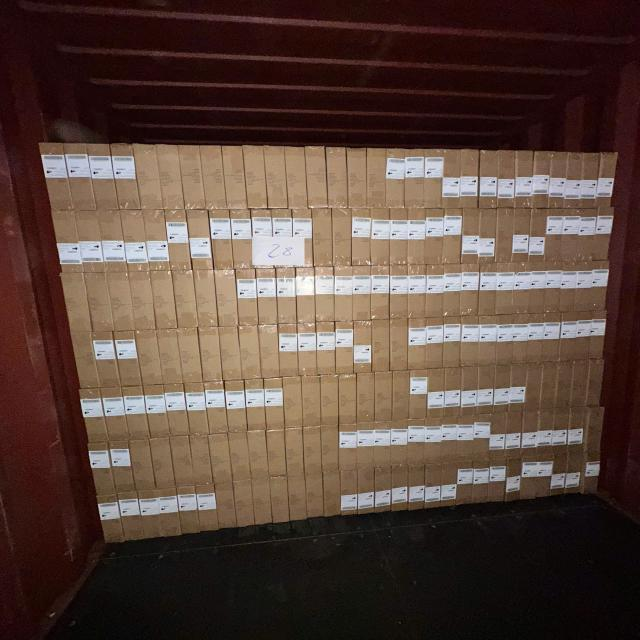Carton: (41, 142, 74, 210), (64, 144, 96, 210), (59, 272, 92, 332), (90, 144, 119, 211), (52, 212, 84, 272), (134, 145, 163, 210), (86, 272, 116, 332), (76, 210, 104, 274), (94, 492, 126, 546), (160, 145, 186, 210), (69, 331, 98, 389), (179, 146, 205, 210), (112, 146, 138, 210), (201, 146, 227, 209), (123, 211, 149, 274), (100, 211, 126, 274), (93, 332, 121, 388), (85, 444, 114, 498), (187, 210, 212, 272), (593, 151, 620, 208), (81, 390, 110, 443), (152, 270, 178, 329), (108, 274, 134, 333), (146, 211, 170, 274), (130, 274, 156, 332), (222, 147, 246, 209), (167, 211, 191, 273), (266, 146, 289, 210), (102, 390, 130, 442), (116, 493, 144, 545), (285, 146, 308, 209), (245, 146, 268, 209), (114, 332, 140, 387), (136, 332, 162, 387), (306, 146, 329, 208), (232, 210, 255, 272), (211, 207, 234, 269), (174, 271, 198, 328), (326, 146, 348, 208), (125, 387, 150, 441), (160, 330, 184, 386), (365, 148, 387, 209), (196, 272, 219, 330), (108, 442, 134, 493), (346, 149, 368, 209), (253, 208, 275, 268), (272, 208, 294, 268), (130, 440, 156, 490), (178, 329, 202, 383), (312, 210, 334, 268), (234, 269, 256, 327), (405, 150, 427, 208), (150, 439, 175, 490), (144, 386, 168, 439), (508, 209, 532, 262), (383, 152, 404, 212), (296, 267, 318, 324), (579, 152, 601, 209), (200, 328, 223, 382), (542, 208, 565, 262), (294, 208, 315, 267), (351, 209, 372, 268), (216, 270, 238, 326), (593, 206, 615, 262), (208, 435, 232, 486), (158, 489, 182, 540), (167, 385, 190, 438), (371, 209, 392, 267), (423, 153, 444, 211), (526, 208, 548, 263), (459, 150, 479, 210), (232, 480, 256, 530), (548, 152, 569, 209), (184, 383, 207, 435), (240, 327, 262, 381), (219, 327, 241, 381), (576, 208, 598, 262), (494, 262, 516, 316), (443, 150, 463, 209), (256, 268, 277, 324), (580, 406, 605, 453), (177, 485, 200, 536), (206, 383, 228, 436), (226, 380, 248, 433), (138, 489, 160, 542), (333, 210, 353, 268), (388, 207, 408, 265), (424, 209, 444, 267), (408, 209, 428, 267), (496, 151, 516, 209), (515, 152, 535, 210), (315, 267, 336, 322), (424, 265, 445, 320), (494, 208, 515, 263), (171, 436, 194, 486), (480, 150, 499, 210), (444, 209, 464, 266), (371, 266, 392, 320), (478, 262, 499, 316), (560, 208, 581, 262), (189, 436, 212, 485), (197, 484, 220, 533), (229, 432, 252, 481), (277, 268, 297, 324), (563, 152, 583, 208), (260, 326, 281, 379), (279, 325, 300, 378), (458, 264, 479, 317), (544, 260, 565, 313), (247, 431, 270, 479), (531, 151, 550, 209), (352, 266, 372, 321), (458, 366, 478, 421), (553, 359, 575, 409), (568, 358, 590, 408), (265, 380, 286, 432), (479, 315, 500, 367), (591, 260, 612, 312), (463, 205, 482, 262), (336, 322, 356, 376), (353, 322, 373, 376), (408, 265, 428, 319), (440, 264, 460, 318), (213, 484, 237, 529), (284, 429, 306, 478), (522, 362, 544, 411), (584, 359, 606, 408), (282, 377, 303, 428), (389, 264, 408, 320), (479, 210, 498, 266), (316, 323, 336, 376), (372, 321, 392, 374), (299, 324, 319, 377), (251, 478, 273, 526), (491, 364, 512, 414), (336, 266, 355, 321), (302, 376, 322, 428), (389, 321, 409, 373), (246, 382, 266, 434), (476, 366, 496, 418), (302, 428, 324, 475), (507, 363, 528, 412), (422, 416, 443, 465), (574, 261, 594, 312), (558, 311, 578, 362), (266, 431, 288, 477), (534, 408, 555, 456), (270, 475, 290, 525), (558, 262, 578, 312), (409, 320, 428, 372), (391, 372, 410, 424), (425, 366, 444, 418), (519, 410, 540, 457), (460, 319, 480, 368), (320, 376, 339, 427), (441, 319, 460, 370), (514, 263, 533, 314), (496, 314, 515, 365), (566, 408, 587, 454), (408, 418, 428, 466), (440, 461, 460, 509), (538, 362, 558, 410), (530, 261, 548, 314), (339, 376, 358, 426), (425, 320, 444, 370), (409, 369, 428, 419), (356, 373, 374, 425), (375, 372, 393, 424), (444, 368, 462, 420), (580, 453, 601, 497), (549, 453, 570, 497), (356, 425, 376, 471), (288, 475, 308, 521), (98, 211, 125, 245), (545, 311, 563, 362), (423, 462, 442, 510), (320, 427, 340, 472), (374, 425, 394, 470), (473, 412, 491, 461), (340, 426, 359, 472), (487, 458, 506, 504), (527, 312, 544, 363), (408, 464, 426, 512), (341, 470, 359, 518), (457, 414, 475, 462), (575, 310, 592, 360), (512, 313, 528, 366), (356, 470, 374, 517), (441, 416, 459, 463), (457, 460, 475, 507), (564, 452, 584, 494), (325, 472, 343, 518), (306, 473, 324, 519), (551, 408, 569, 454), (390, 424, 409, 467), (505, 455, 522, 503), (472, 458, 489, 506), (505, 412, 523, 457), (391, 466, 408, 513), (590, 311, 607, 358), (535, 454, 553, 498), (375, 468, 392, 514), (491, 412, 506, 460), (519, 456, 535, 501)
